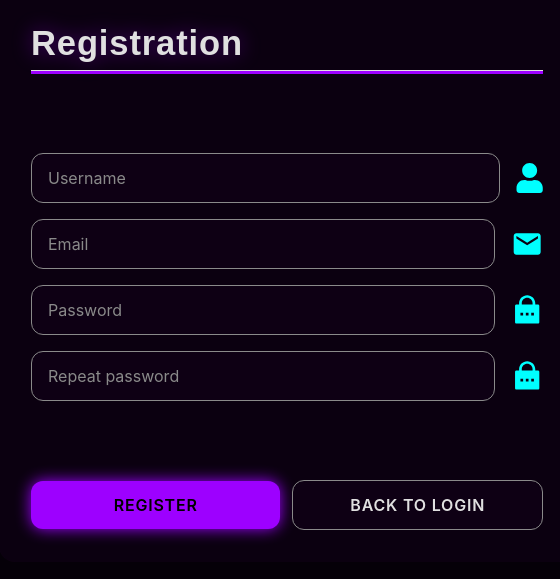
Test: RegistrationModal › shows client-side validation on empty submit
Click the button "Register" at {"x": 156, "y": 505}, box [31,481,280,529]
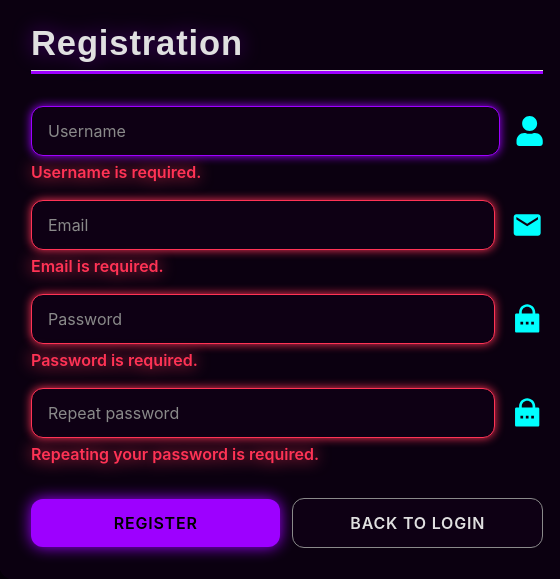
Now the text "Username is required." is shown, box [31,160,201,184]
Now the text "Email is required." is shown, box [31,254,164,278]
Now the text "Password is required." is shown, box [31,348,198,372]
